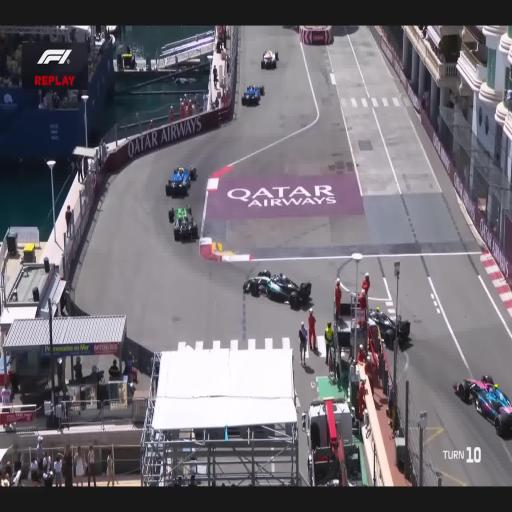f1_car: (453, 376, 512, 435), (243, 270, 311, 308), (368, 307, 410, 348), (169, 207, 198, 240), (165, 166, 196, 195), (241, 84, 264, 105), (261, 49, 278, 69)
